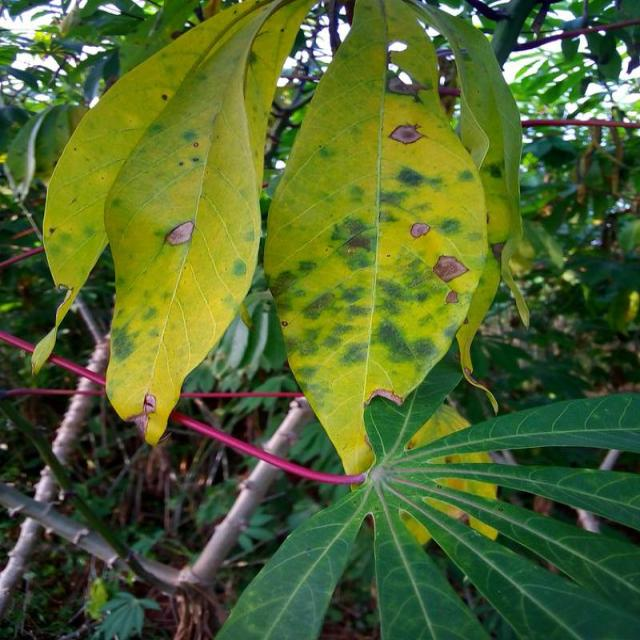cassava leaf: (263, 0, 504, 483), (101, 0, 316, 446)
